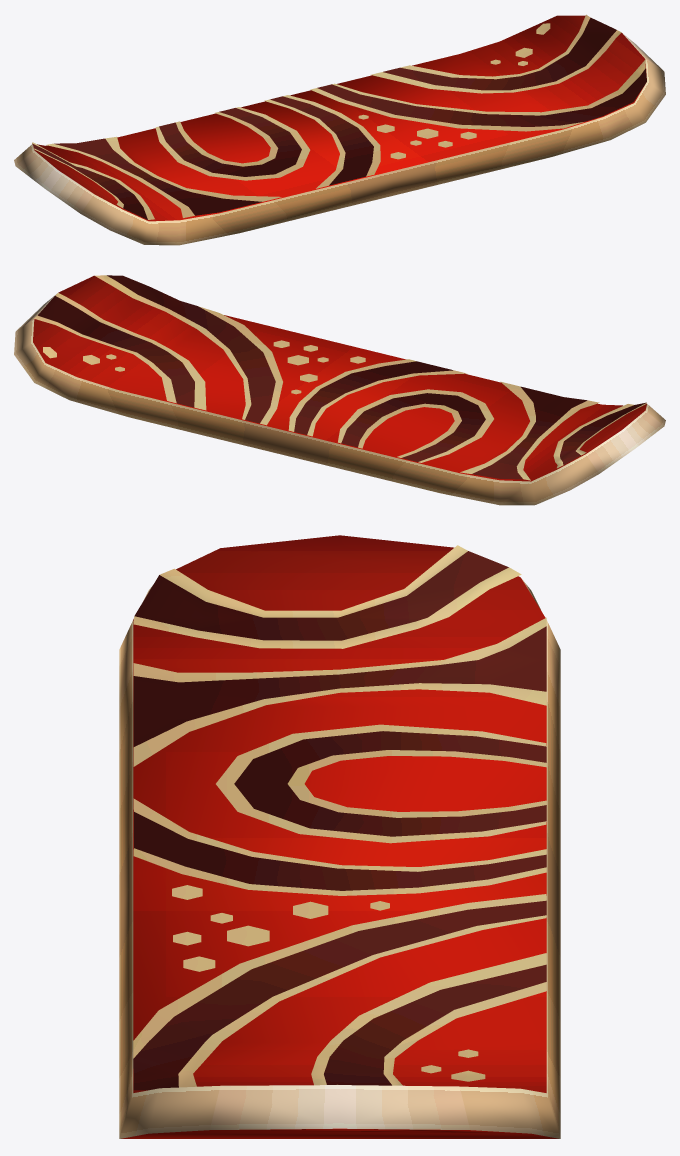
The model's file is TheOutback.glb.
3 renders of one model, top to bottom at view 1: azimuth 30°, elevation 25°; view 2: azimuth 150°, elevation 25°; view 3: azimuth 270°, elevation 25°, orthographic. The views are drawn at different scales.
Visible parts, largest first — view 1: TheOutback; view 2: TheOutback; view 3: TheOutback.
Part boxes in pixels (x1,y1,x2,y2): TheOutback: (14, 14, 665, 245); TheOutback: (14, 275, 665, 505); TheOutback: (119, 535, 560, 1138).
Size of the model in its own units: 8.53 by 0.7566 by 2.76.
Materials: 1 (1 with a texture image).
